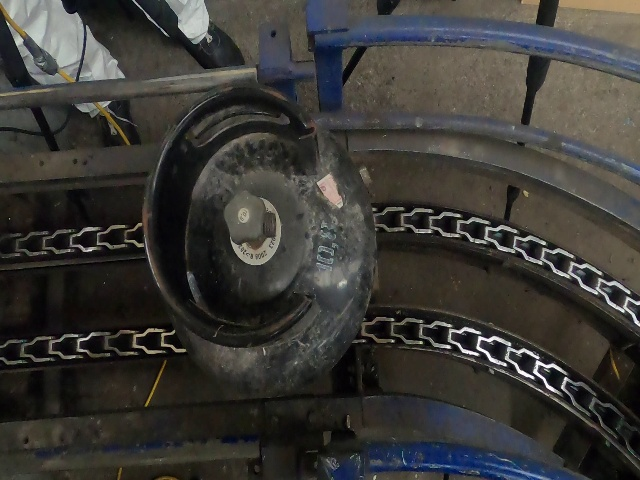gas_bottle: (4, 2, 640, 480)
